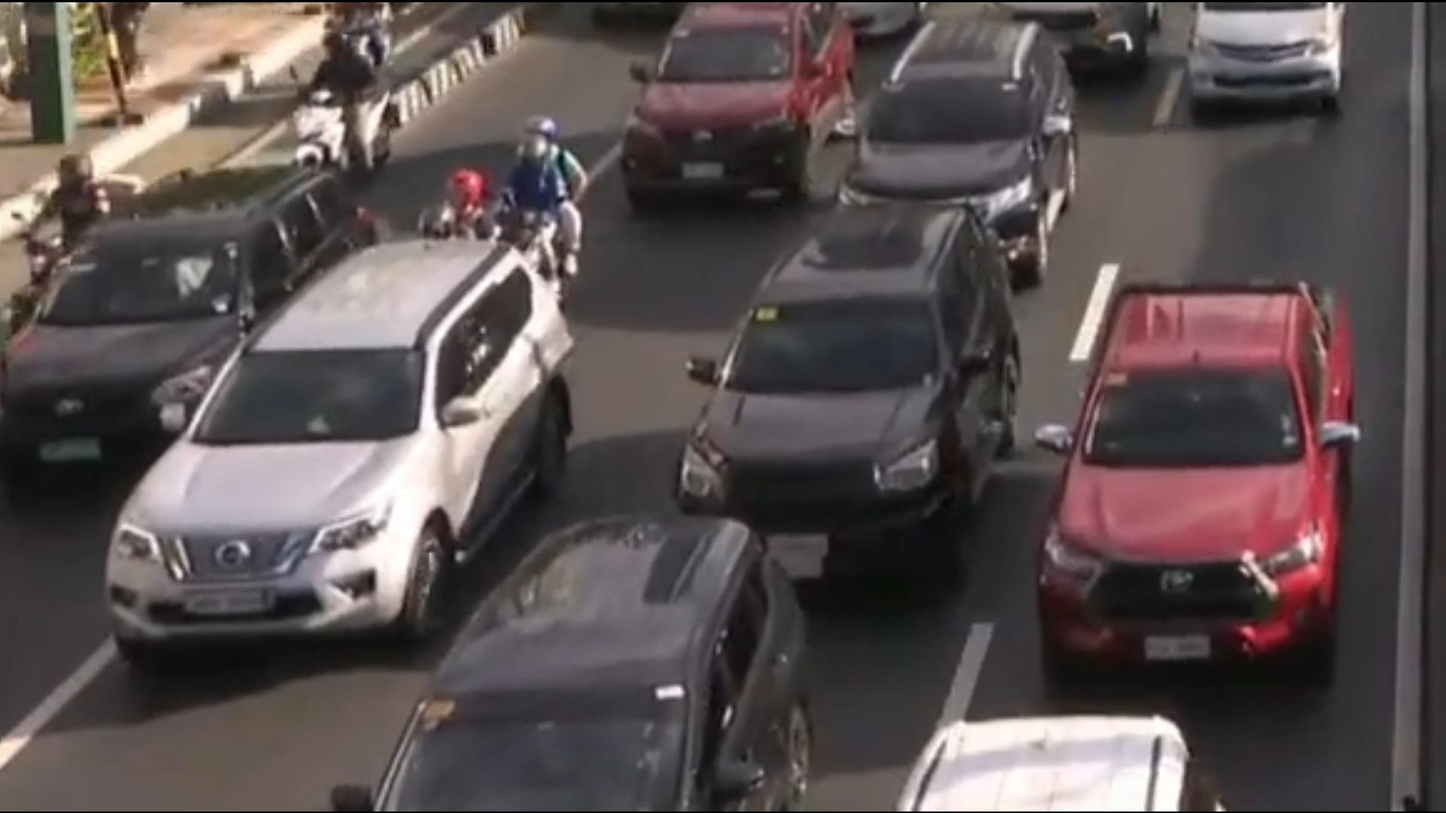Motorcycle: (0, 143, 160, 333), (483, 111, 605, 291), (293, 14, 413, 193), (402, 160, 507, 256)
Pickup: (995, 238, 1396, 696)
SUV: (79, 232, 603, 681), (625, 192, 1055, 595), (305, 518, 883, 813), (0, 157, 400, 467), (816, 6, 1126, 262), (605, 0, 868, 215)
